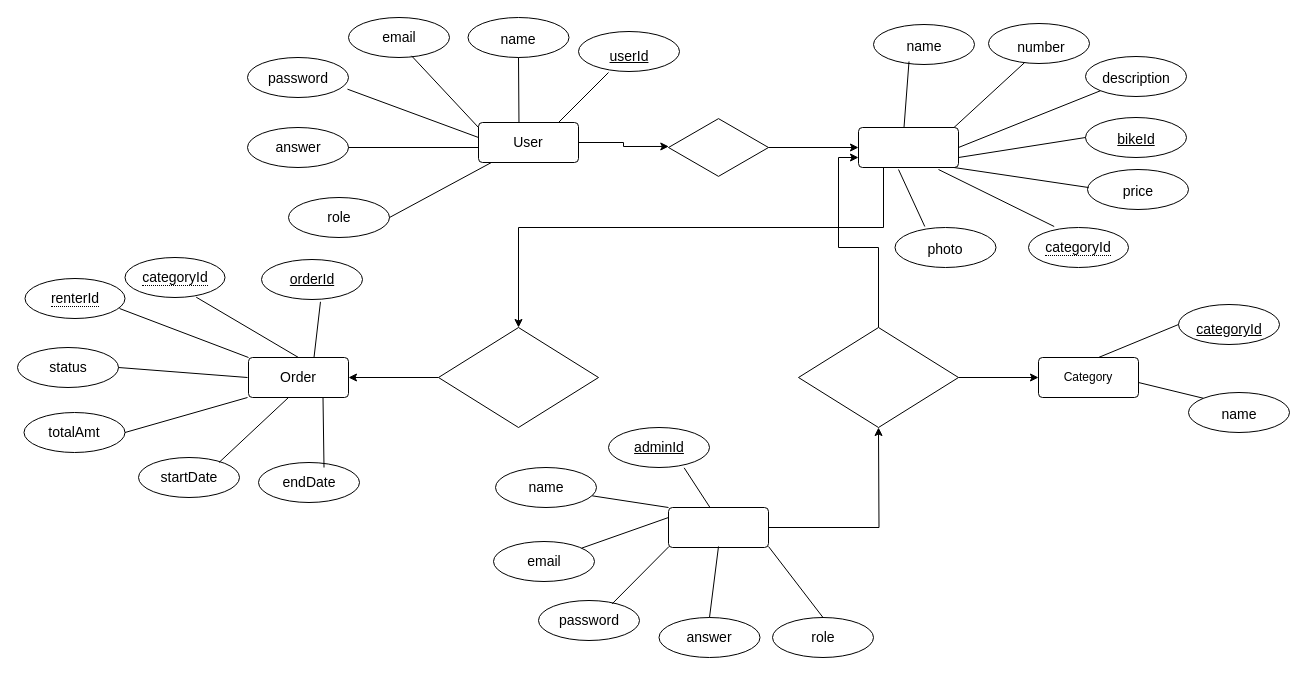
The diagram is 1307 pixels wide and 675 high, and some of its shapes have lost their labels. Each missing label, with the box of its shape:
Admin: (668, 506, 768, 548)
Bikes: (858, 126, 958, 168)
can add,update, delete: (798, 326, 958, 428)
isAdded: (438, 326, 598, 428)
rents: (668, 116, 768, 178)
